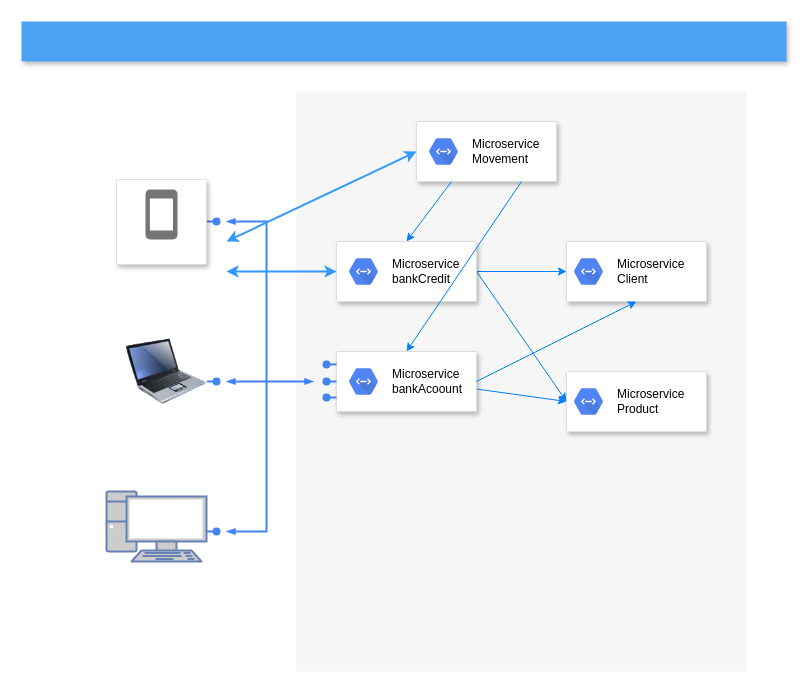
The diagram is 809 pixels wide and 688 high, and some of its shapes have lost their labels. The centre of each missing label's shape, as x and y in pixels:
"Architecture: General > App Bank Endpoints" belongs at point 404,42.
"iOS / Android" belongs at point 162,223.
